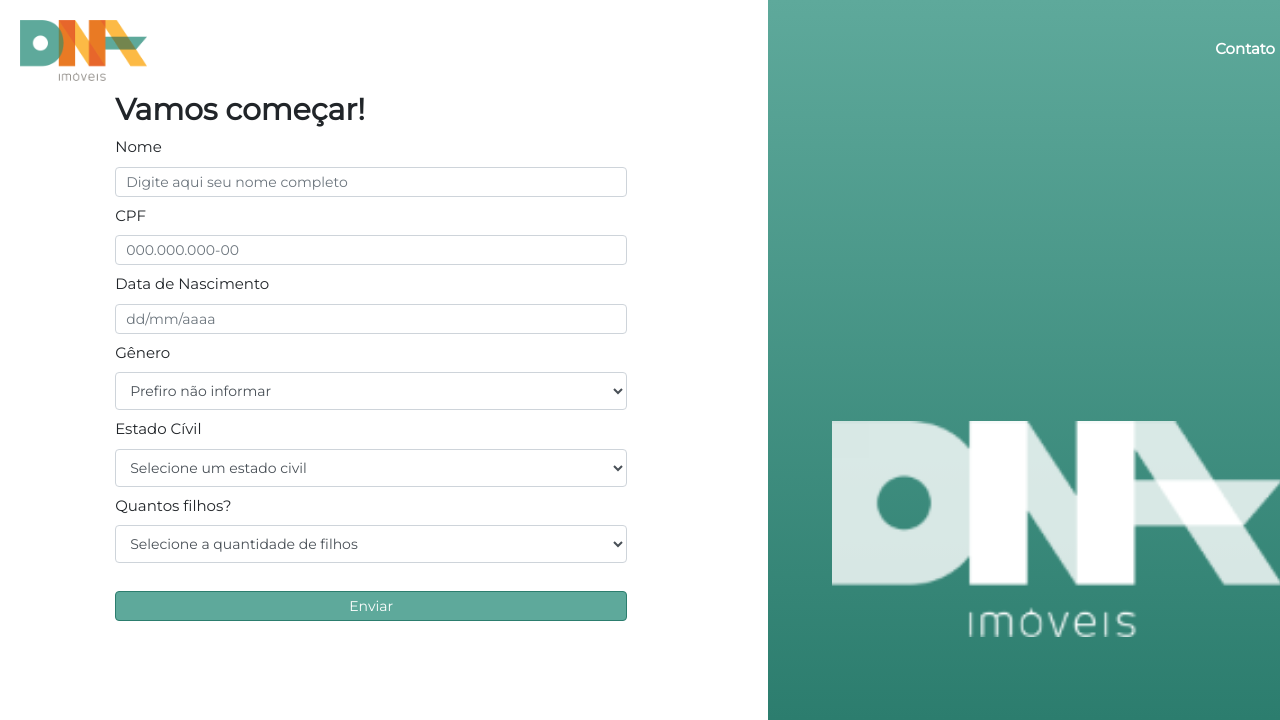
Scenario: 1 - Verifica se o Formulário foi renderizado na tela ` › Será validado se o campo Conjuge é renderizado se selecionado o Estado Civil: Casado
This screenshot has width=1280, height=720.
Select "Casado" in the dropdown labelled "Estado Cívil" at {"x": 371, "y": 468}, box [115,448,627,486]
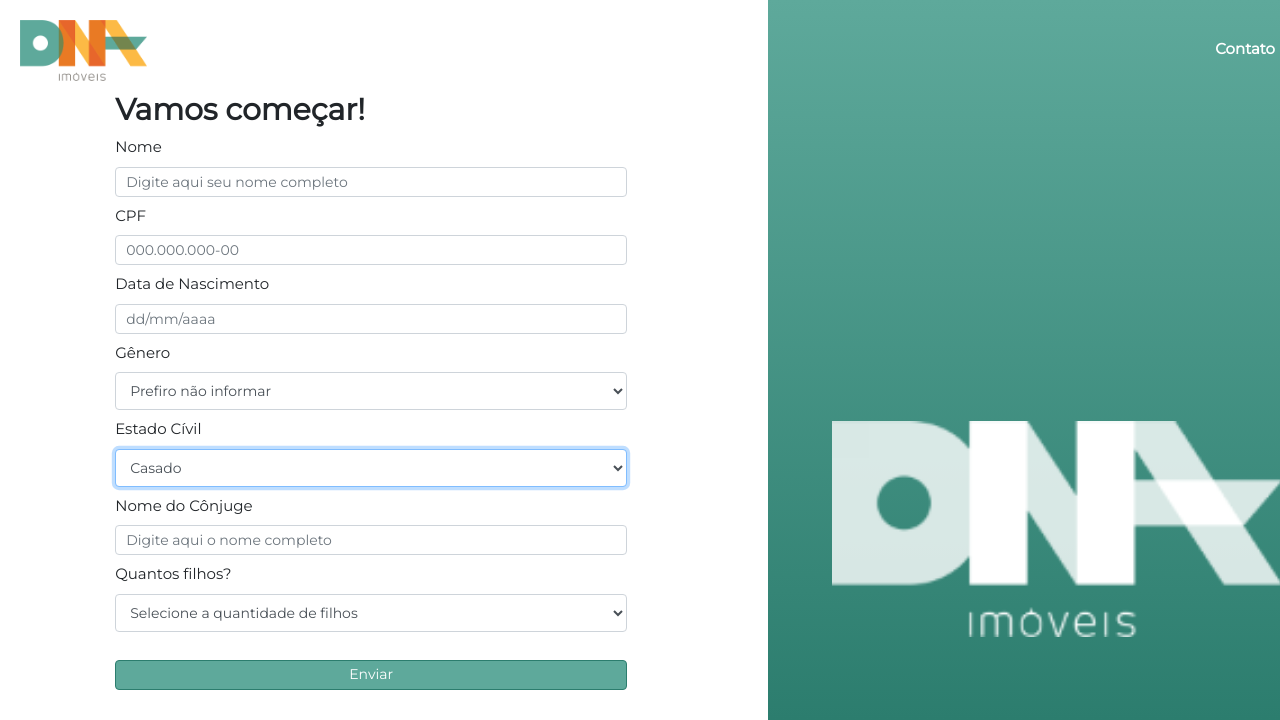
Now the field with placeholder "Digite aqui o nome completo" is shown, box [115,525,627,555]
